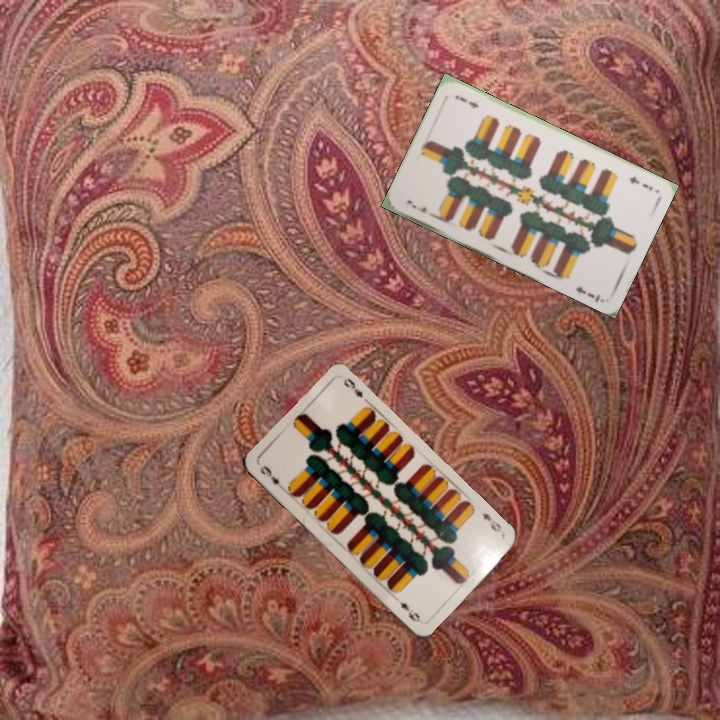E7: (403, 196, 438, 220), (625, 172, 655, 193)
E9: (256, 462, 286, 493), (478, 509, 503, 535)
